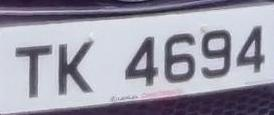4: (118, 29, 164, 97), (232, 14, 271, 79)
6: (160, 25, 202, 93)
9: (197, 20, 237, 85)
K: (52, 34, 101, 106)
T: (3, 34, 57, 109)
